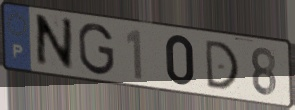0: (163, 33, 196, 88)
1: (125, 28, 143, 82)
8: (250, 46, 278, 98)
D: (203, 38, 242, 91)
G: (76, 21, 117, 77)
N: (34, 13, 75, 74)
